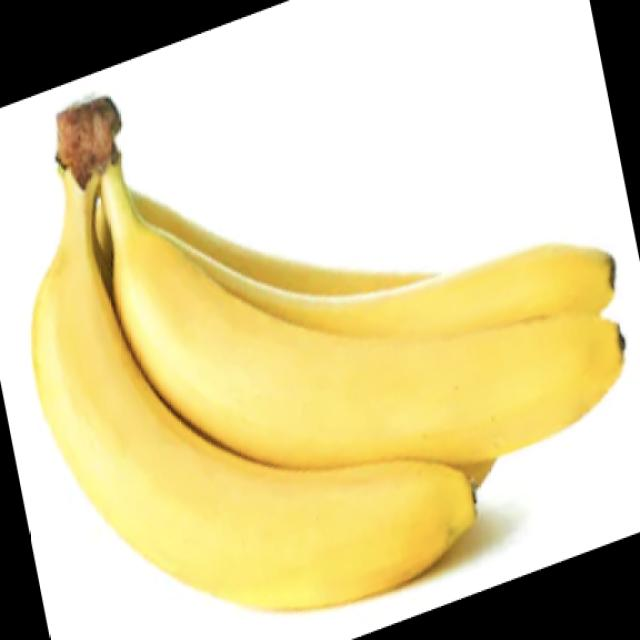god quality banana: (32, 97, 626, 610)
